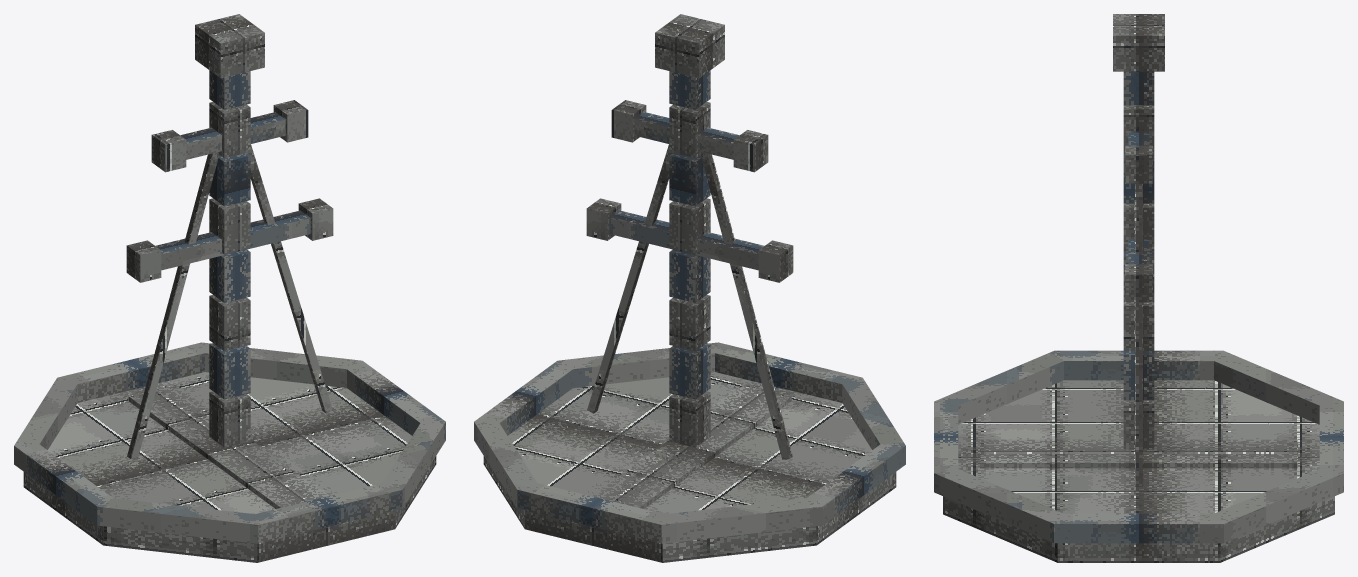
File: checkpoint_activated.glb
3 views of the same model, side by side, from view 1: azimuth 30°, elevation 25°; view 2: azimuth 150°, elevation 25°; view 3: azimuth 270°, elevation 25° (orthographic).
Parts seen in each view (by area): view 1: checkpoint_activated; view 2: checkpoint_activated; view 3: checkpoint_activated.
Part boxes in pixels (box(x1,y1,x2,y2)): checkpoint_activated: box(14, 14, 445, 562); checkpoint_activated: box(474, 14, 905, 562); checkpoint_activated: box(934, 14, 1343, 562).
Bounding box in the file's own units: 2.51 × 3.08 × 2.51.
Materials: 2 (2 with a texture image).
